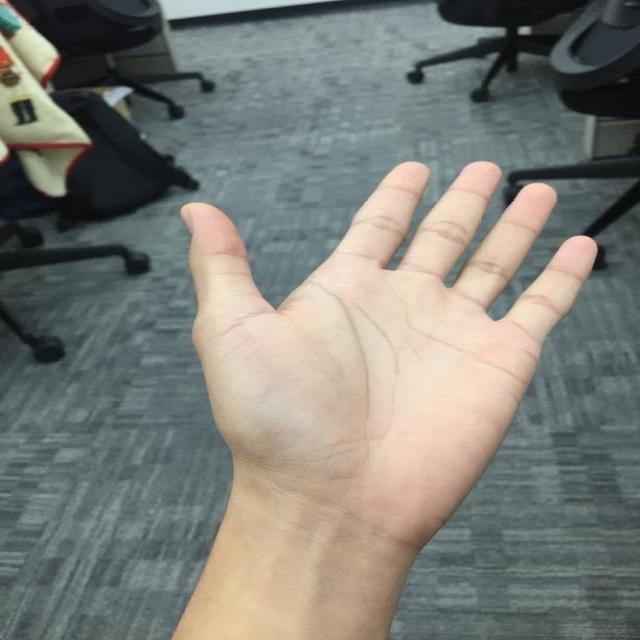no-gloves: (178, 158, 601, 542)
